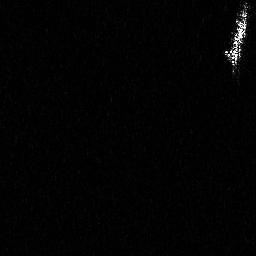ship: (223, 1, 249, 75)
